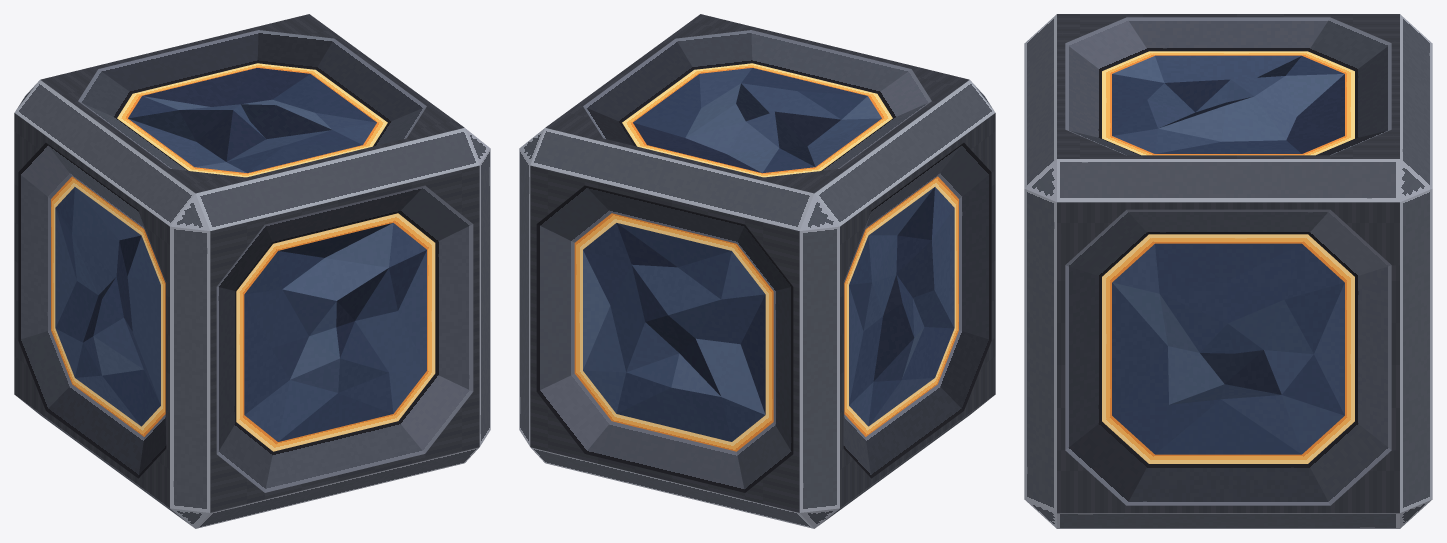
Rendered from marlit_block.glb.
3 views of the same model, side by side, from view 1: azimuth 30°, elevation 25°; view 2: azimuth 150°, elevation 25°; view 3: azimuth 270°, elevation 25° (orthographic). The views are drawn at different scales.
Parts seen in each view (by area): view 1: marlit_block; view 2: marlit_block; view 3: marlit_block.
Boxes of the visible parts, x1,y1,x2,y2 form: marlit_block: [14, 14, 490, 528]; marlit_block: [519, 14, 995, 528]; marlit_block: [1024, 14, 1432, 528].
Size of the model in its own units: 2 by 2 by 2.
1 material, 1 textured.
